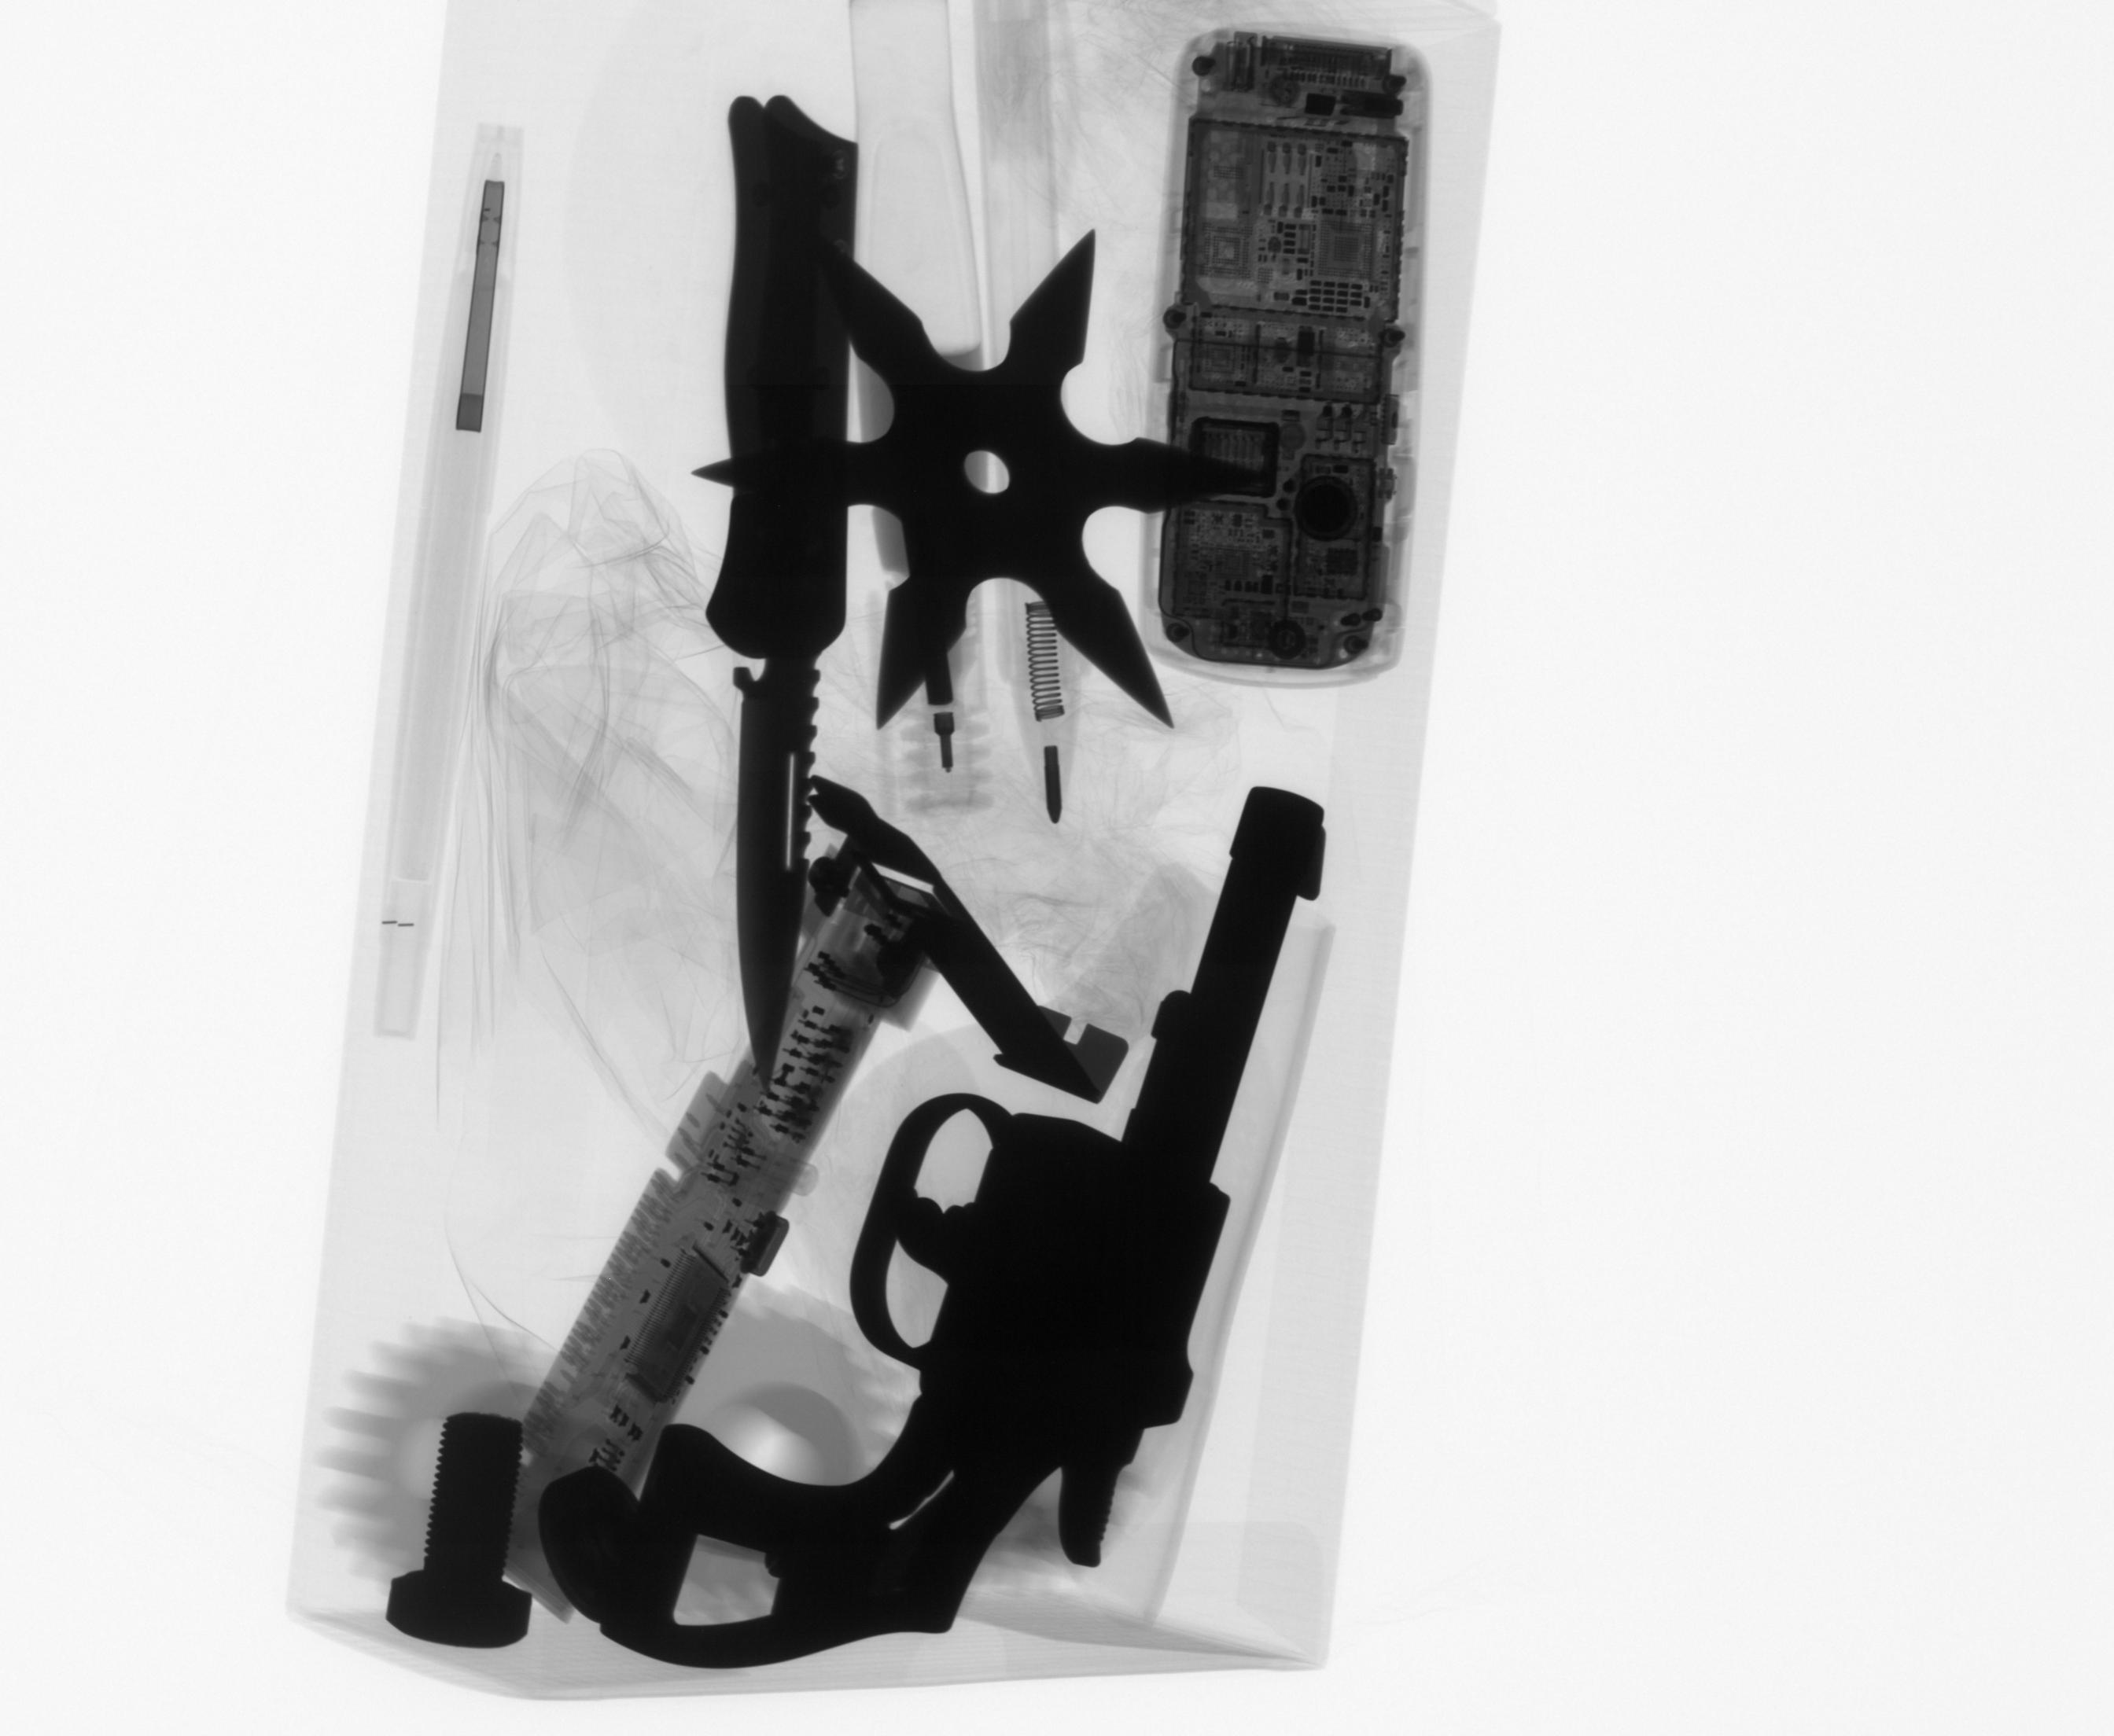Handgun: (585, 772, 1340, 1678)
Knife: (695, 82, 871, 1101)
Shuriken: (687, 223, 1285, 742)
